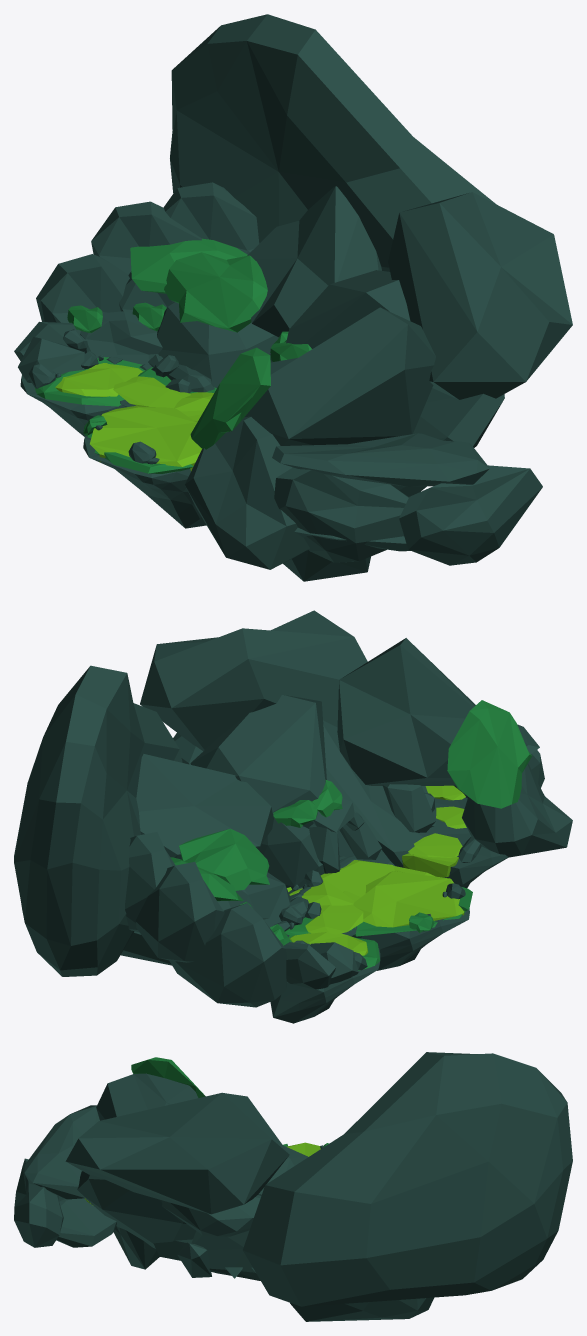
File: m_hub.glb
The picture shows the model from 3 angles, top to bottom: view 1: azimuth 30°, elevation 25°; view 2: azimuth 150°, elevation 25°; view 3: azimuth 270°, elevation 25°; orthographic projection. The views are drawn at different scales.
Visible parts, largest first — view 1: Cube.019, Cube.068, Cube.052, Cube.053, Cube.016, Cube.062, Cube.061, Cube.063, Cube.010, Cube.035, Cube.009, Cube.037 (+18 smaller); view 2: Cube.019, Cube.068, Cube.052, Cube.035, Cube.016, Cube.073, Cube.067, Cube.017, Cube.053, Cube.037, Cube.039, Cube.010 (+23 smaller); view 3: Cube.019, Cube.068, Cube.039, Cube.063, Cube.052, Cube.062, Cube.025, Cube.064, Cube.093, Cube.092, Cube.043, Cube.067 (+3 smaller).
Boxes of the visible parts, x1,y1,x2,y2 form: Cube.019: (170, 14, 495, 271); Cube.068: (388, 192, 572, 399); Cube.052: (245, 307, 435, 445); Cube.053: (185, 416, 309, 569); Cube.016: (247, 186, 381, 337); Cube.062: (399, 465, 542, 565); Cube.061: (274, 467, 408, 562); Cube.063: (272, 433, 489, 486); Cube.010: (164, 252, 267, 332); Cube.035: (286, 270, 410, 348); Cube.009: (157, 301, 278, 388); Cube.037: (90, 405, 201, 466); Cube.019: (14, 665, 182, 976); Cube.068: (140, 610, 367, 751); Cube.052: (337, 638, 475, 785); Cube.035: (190, 694, 326, 812); Cube.016: (136, 753, 273, 859); Cube.073: (169, 903, 287, 1007); Cube.067: (447, 700, 531, 808); Cube.017: (135, 862, 224, 962); Cube.053: (462, 763, 572, 857); Cube.037: (353, 871, 464, 927); Cube.039: (303, 720, 427, 867); Cube.010: (179, 828, 269, 890); Cube.019: (243, 1052, 572, 1306); Cube.068: (65, 1092, 289, 1214); Cube.039: (77, 1171, 196, 1248); Cube.063: (24, 1105, 99, 1199); Cube.052: (96, 1073, 198, 1120); Cube.062: (14, 1158, 63, 1247); Cube.025: (290, 1297, 433, 1321); Cube.064: (56, 1198, 116, 1247); Cube.093: (162, 1195, 261, 1236); Cube.092: (191, 1230, 260, 1280); Cube.043: (113, 1226, 159, 1269); Cube.067: (131, 1057, 205, 1097).
Bounding box in the file's own units: 21.3 × 16.99 × 31.06.
1 material, 1 textured.
